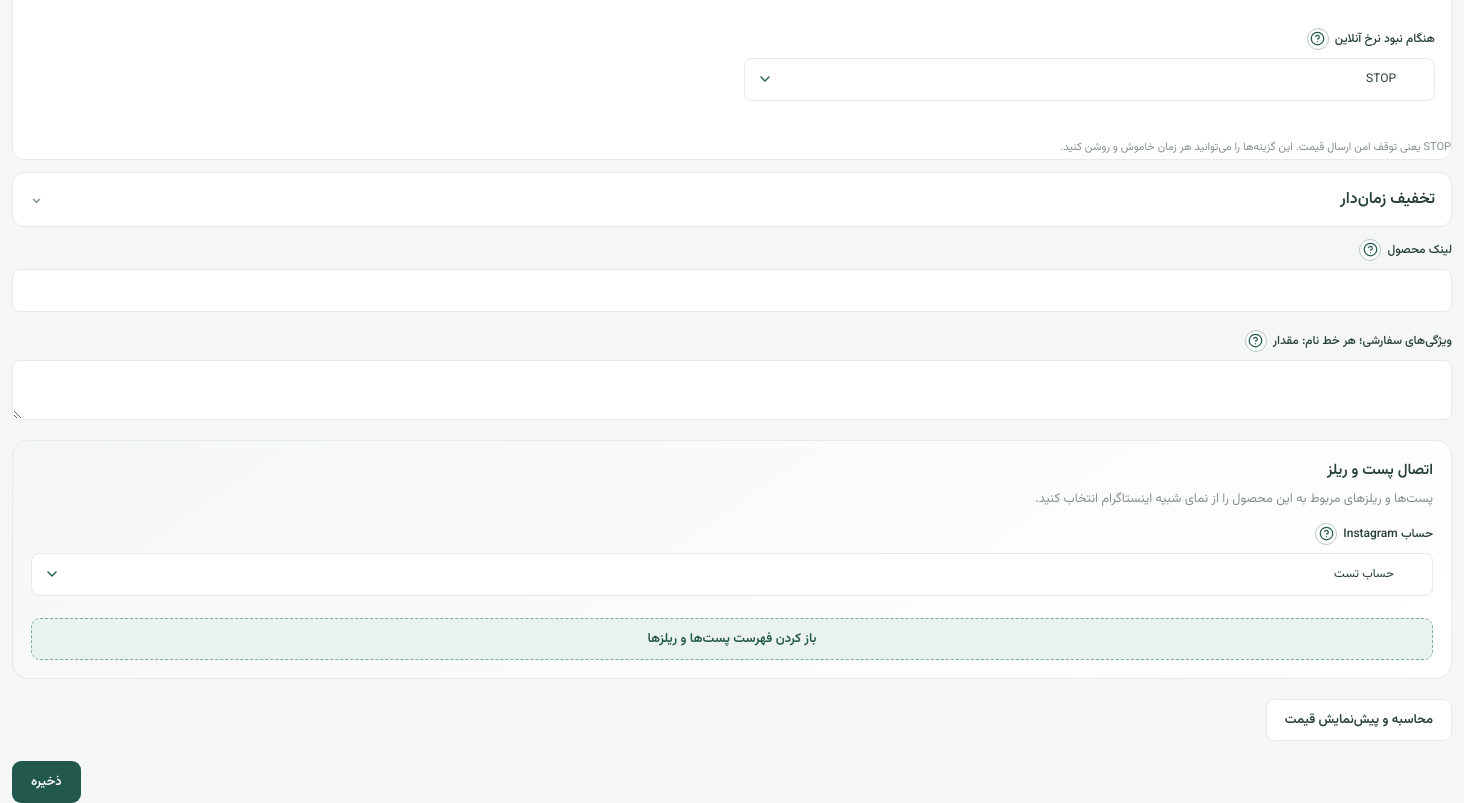
commerce user workflows › previews a price without saving a product
The width and height of the screenshot is (1464, 803).
(page scrolled)
Click the button "محاسبه و پیش‌نمایش قیمت": (1359, 720) [1266,699,1452,741]
(page scrolled)
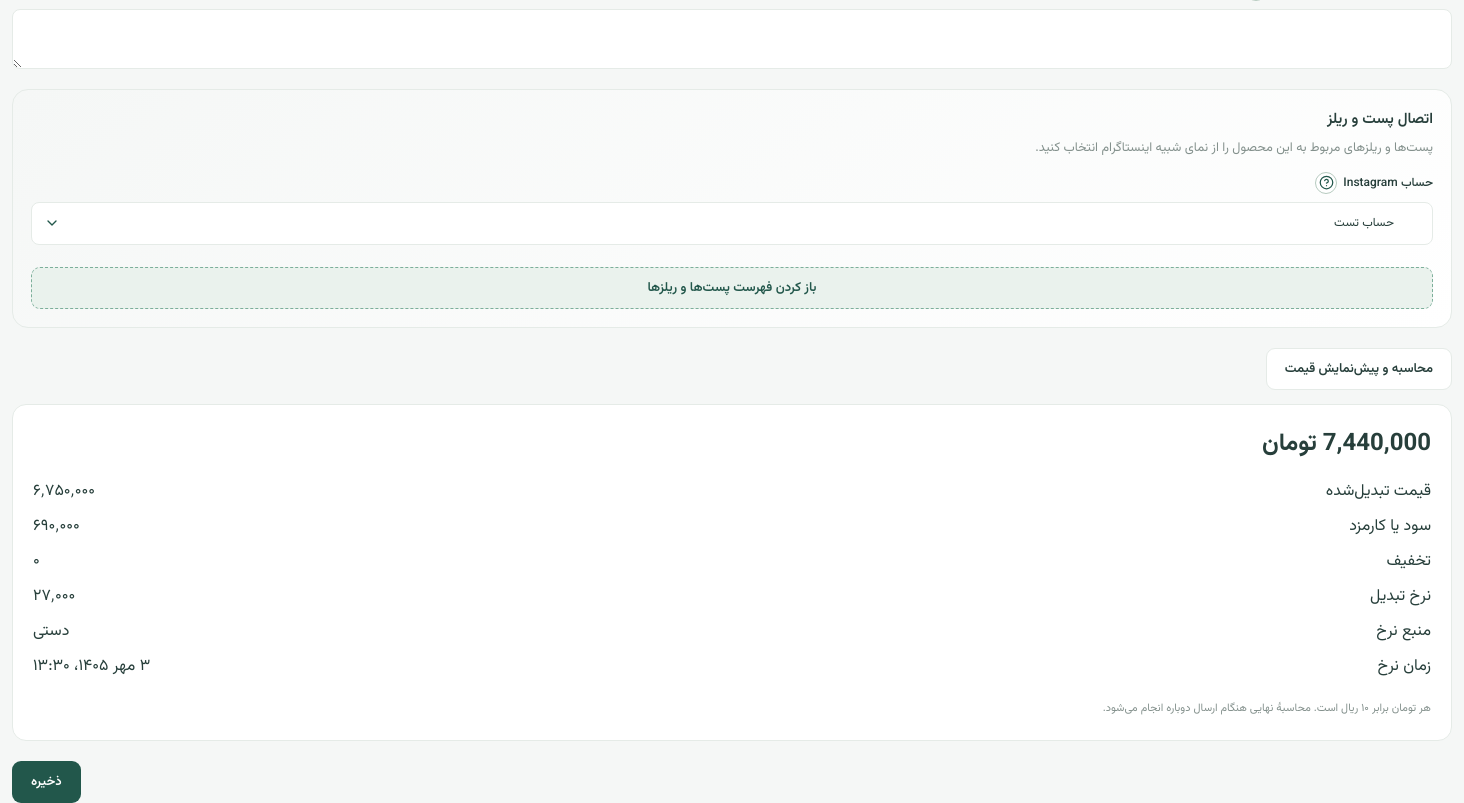
Now the text "7,440,000 تومان" is shown, box [1262,425,1431,463]
